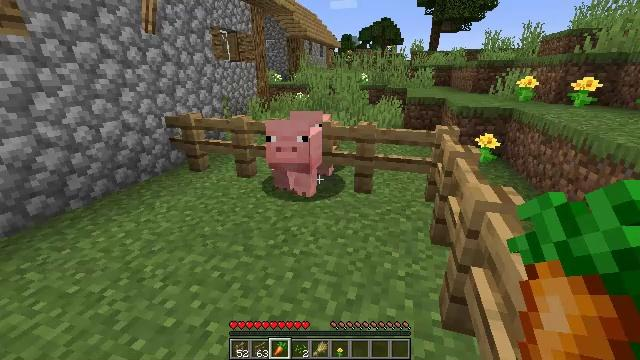pig: (265, 122, 323, 195)
